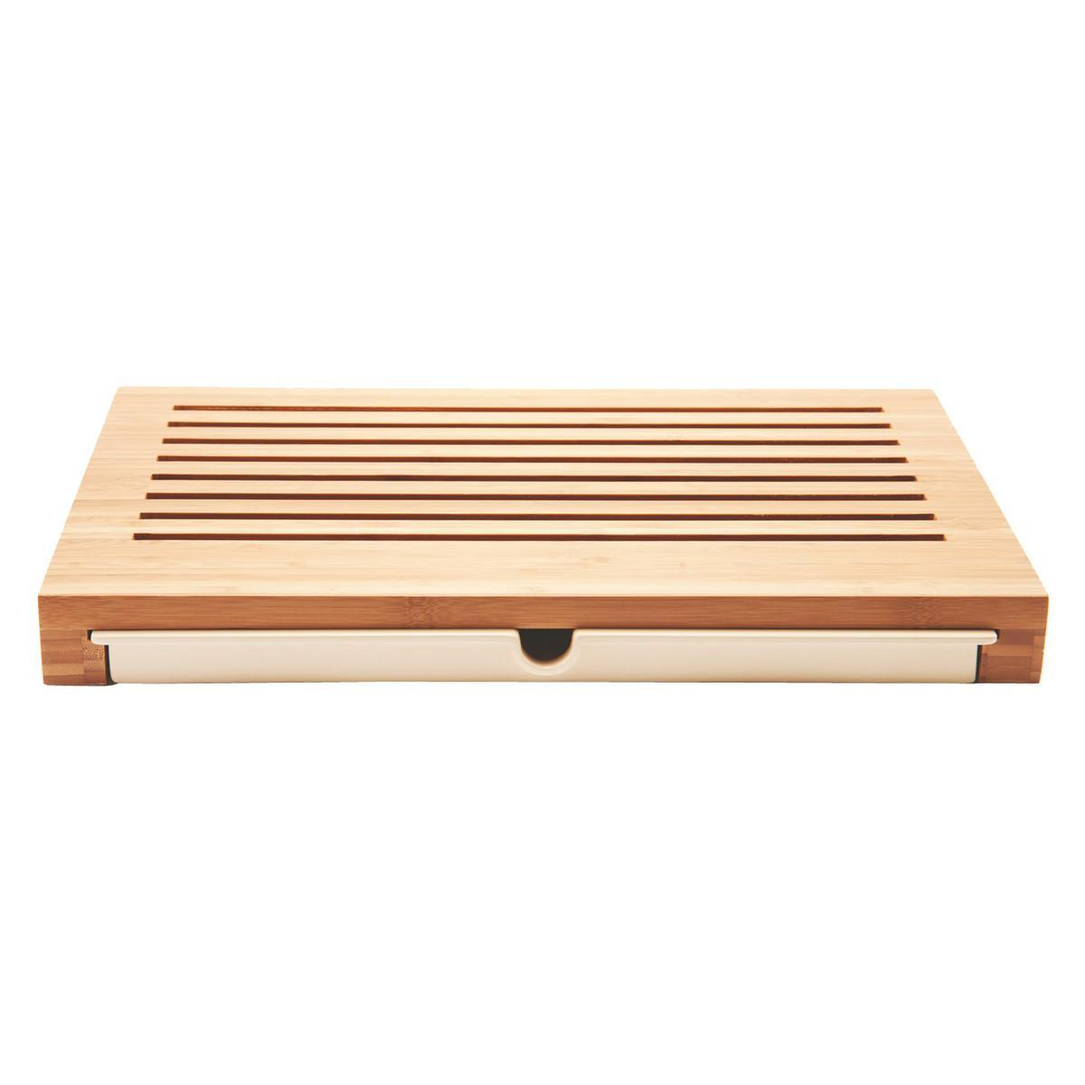gloved_hand: (28, 346, 1057, 715)
